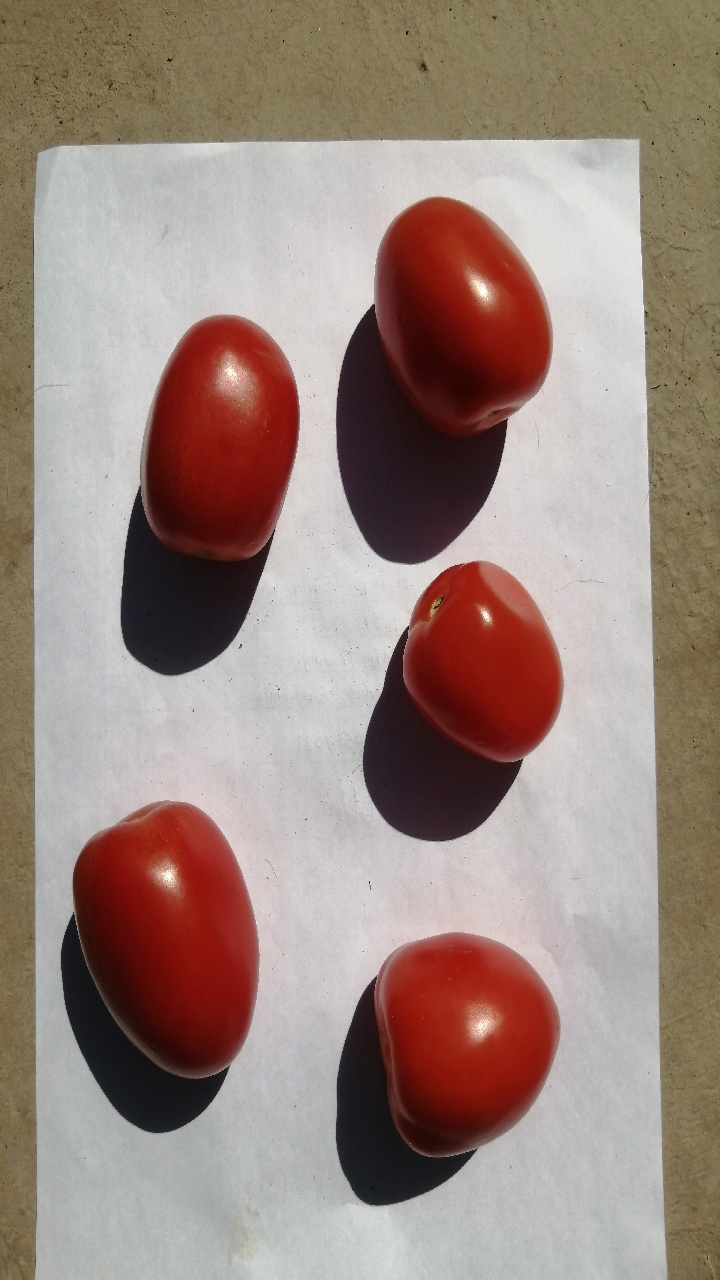tomateRojo: (48, 769, 277, 1097), (337, 191, 588, 459), (344, 912, 589, 1182), (109, 285, 315, 585), (361, 529, 583, 794)
